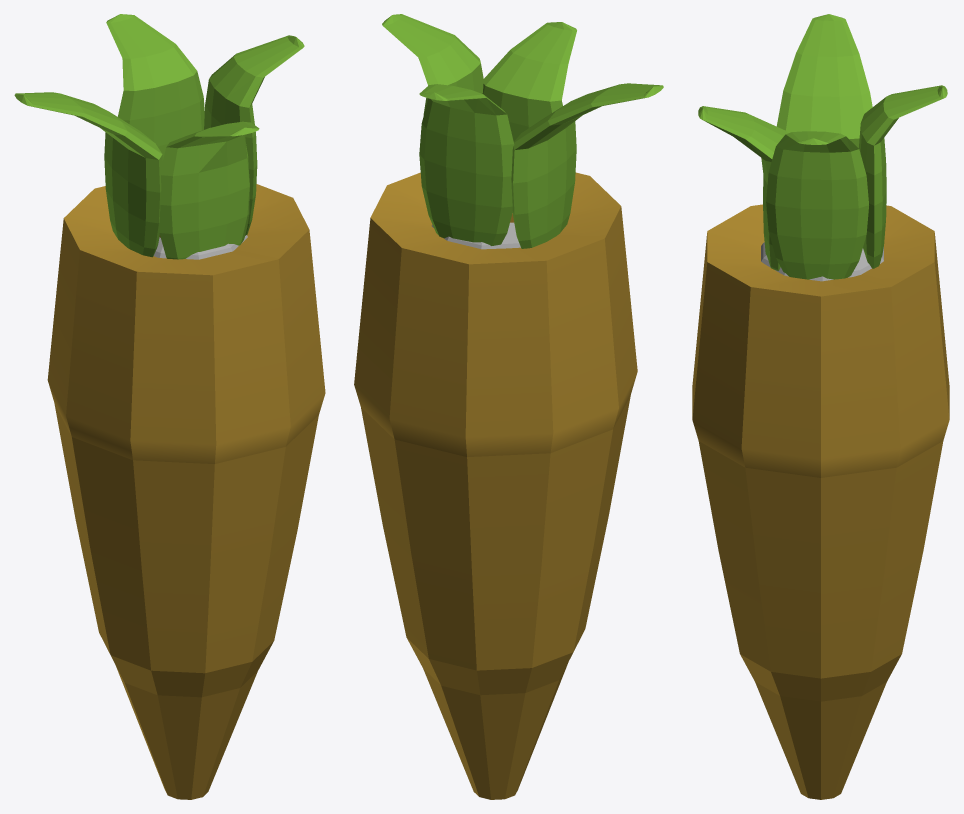
File: Carrot.fbx
The picture shows the model from 3 angles, left to right: view 1: azimuth 30°, elevation 25°; view 2: azimuth 150°, elevation 25°; view 3: azimuth 270°, elevation 25°; orthographic projection. The views are drawn at different scales.
Parts seen in each view (by area): view 1: pCylinder2, pSphere11, pSphere10, pSphere8, pSphere9, pSphere7; view 2: pCylinder2, pSphere10, pSphere8, pSphere11, pSphere9, pSphere7; view 3: pCylinder2, pSphere9, pSphere8, pSphere10, pSphere11, pSphere7.
Part boxes in pixels (x1,y1,x2,y2): pCylinder2: (47, 184, 325, 799); pSphere11: (159, 121, 259, 259); pSphere10: (106, 14, 204, 160); pSphere8: (14, 92, 162, 257); pSphere9: (204, 35, 304, 235); pSphere7: (153, 235, 247, 259); pCylinder2: (354, 172, 637, 799); pSphere10: (419, 84, 514, 245); pSphere8: (511, 83, 663, 248); pSphere11: (482, 22, 576, 141); pSphere9: (382, 14, 484, 114); pSphere7: (432, 222, 520, 249); pCylinder2: (692, 204, 949, 799); pSphere9: (766, 131, 868, 279); pSphere8: (776, 14, 872, 147); pSphere10: (858, 85, 947, 268); pSphere11: (698, 106, 787, 270); pSphere7: (761, 242, 883, 281).
Size of the model in its own units: 1.96 by 4.83 by 1.6.
